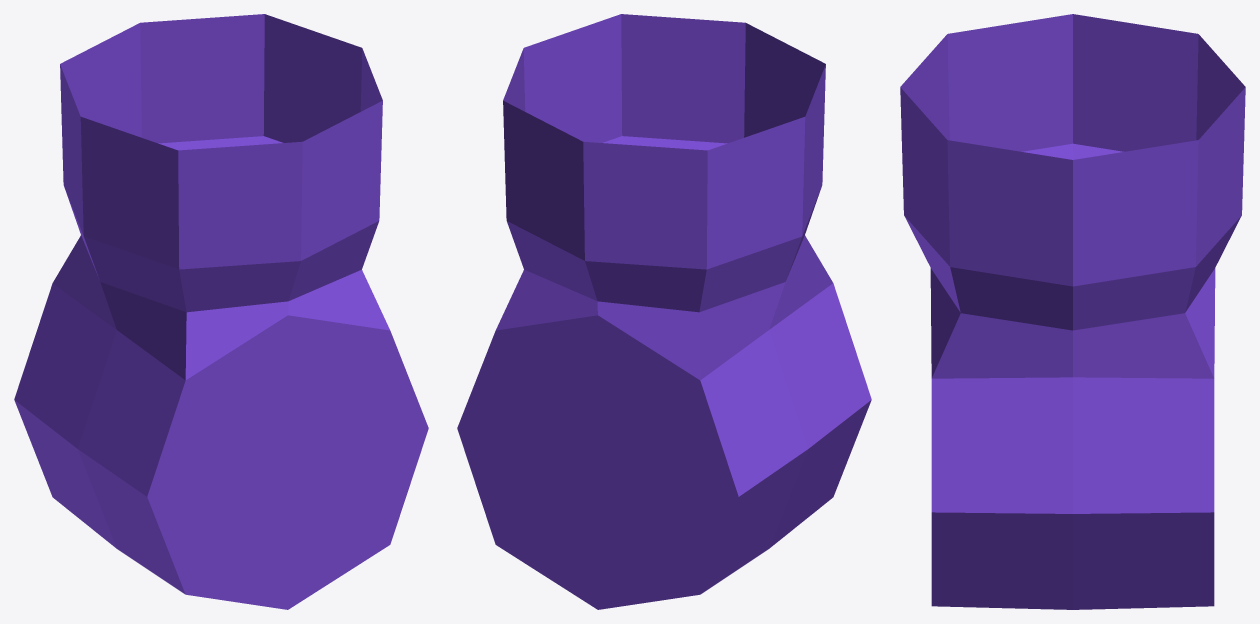
File: Shaft2.glb
3 views of the same model, side by side, from view 1: azimuth 30°, elevation 25°; view 2: azimuth 150°, elevation 25°; view 3: azimuth 270°, elevation 25° (orthographic). The views are drawn at different scales.
Visible parts, largest first — view 1: Shaft2.001; view 2: Shaft2.001; view 3: Shaft2.001.
Part boxes in pixels (box(x1,y1,x2,y2)): Shaft2.001: box(14, 14, 428, 609); Shaft2.001: box(457, 14, 871, 609); Shaft2.001: box(900, 14, 1245, 609).
Size of the model in its own units: 0.6111 by 0.9789 by 0.5983.
